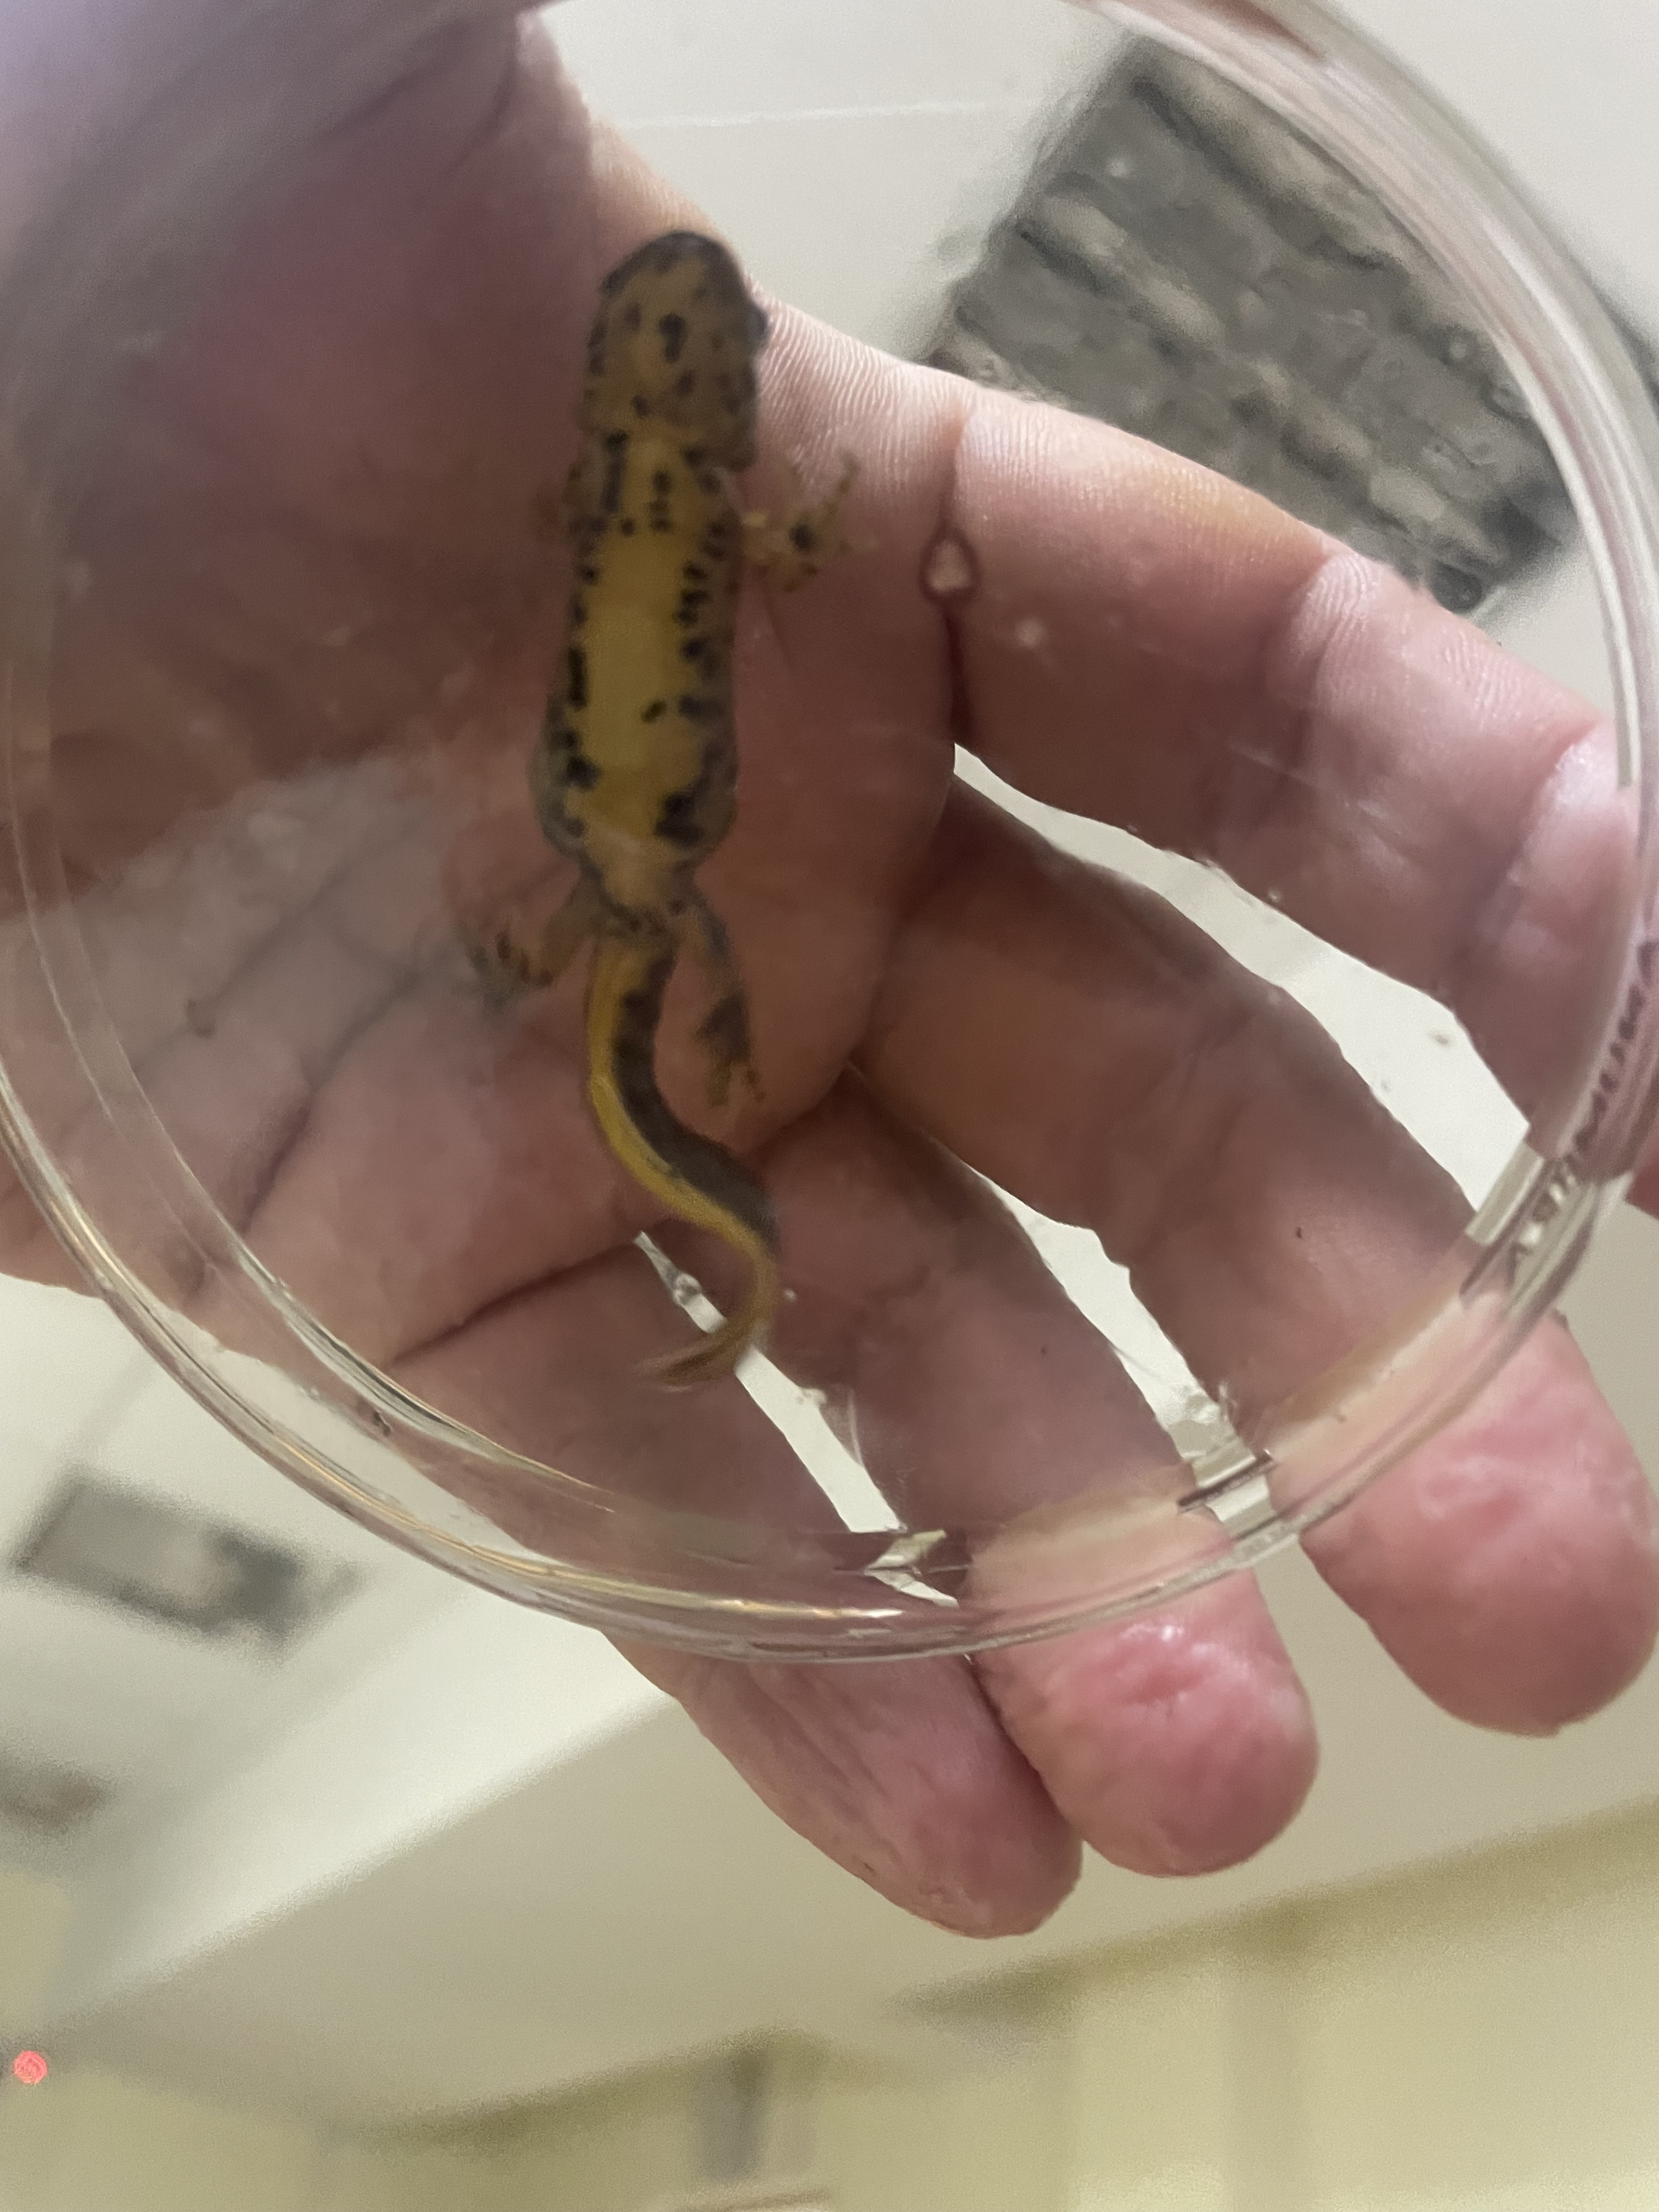Karelin_newt: (525, 529, 746, 880)
